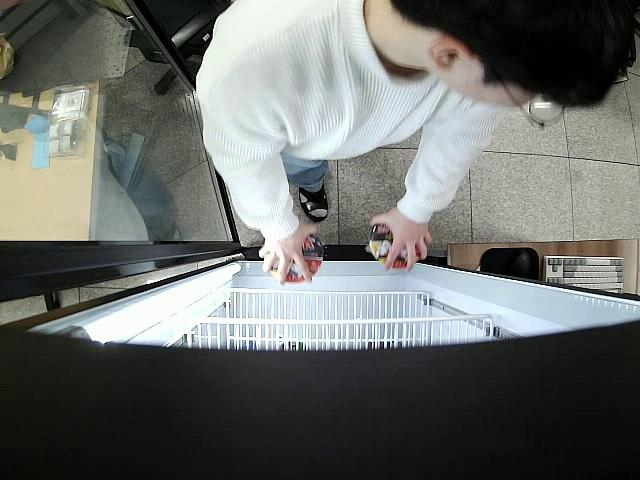00_hand: (256, 218, 319, 284), (369, 208, 434, 271)
07_buldak_L: (271, 237, 324, 283), (369, 224, 422, 269)
